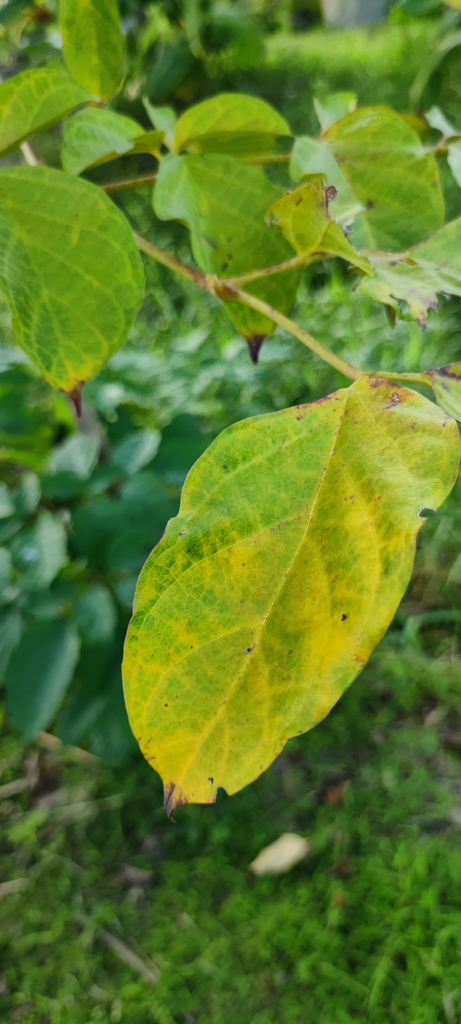Pepper yellow leaf: (118, 375, 450, 826)
